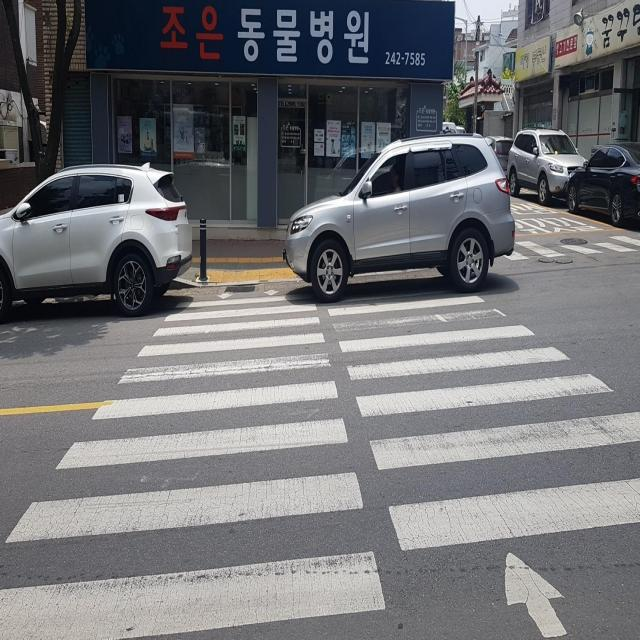횡단보도: (0, 287, 640, 639)
